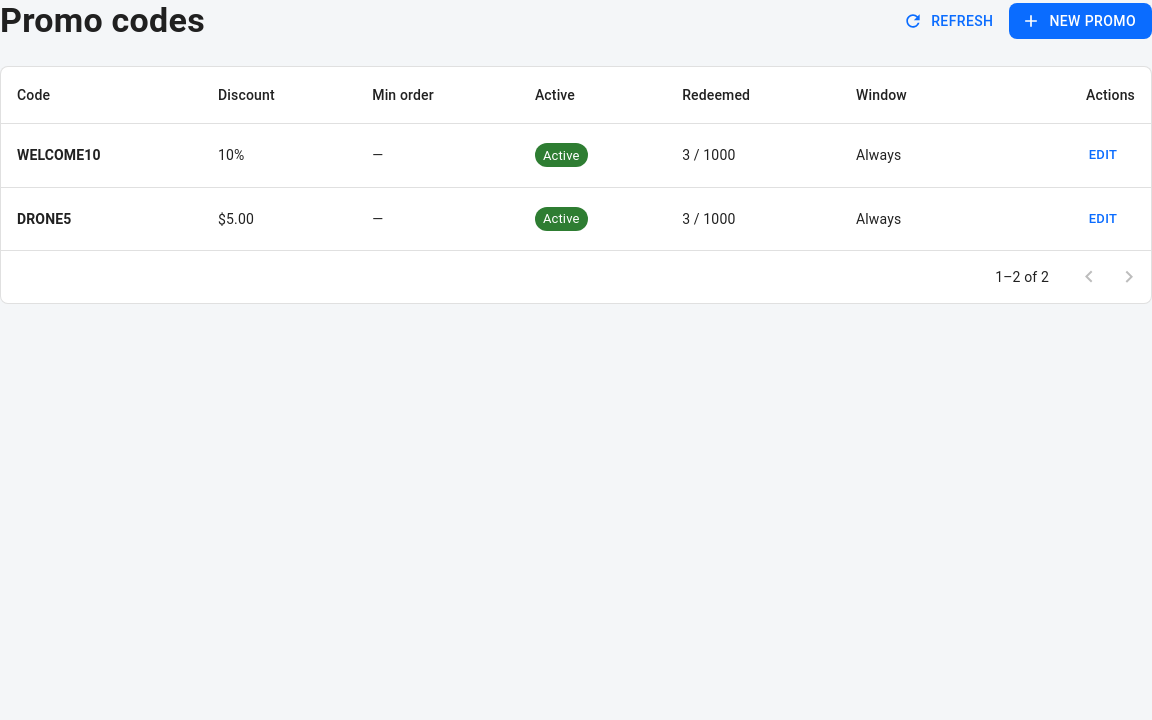
it: PromosListPage › opens the edit dialog titled "Edit WELCOME10" when a row's Edit is clicked
Expected: the text "WELCOME10" is shown, [17,147,101,163]
Click the button "Edit" in the row of "WELCOME10".
click(1103, 155)  # box [1071,140,1135,171]
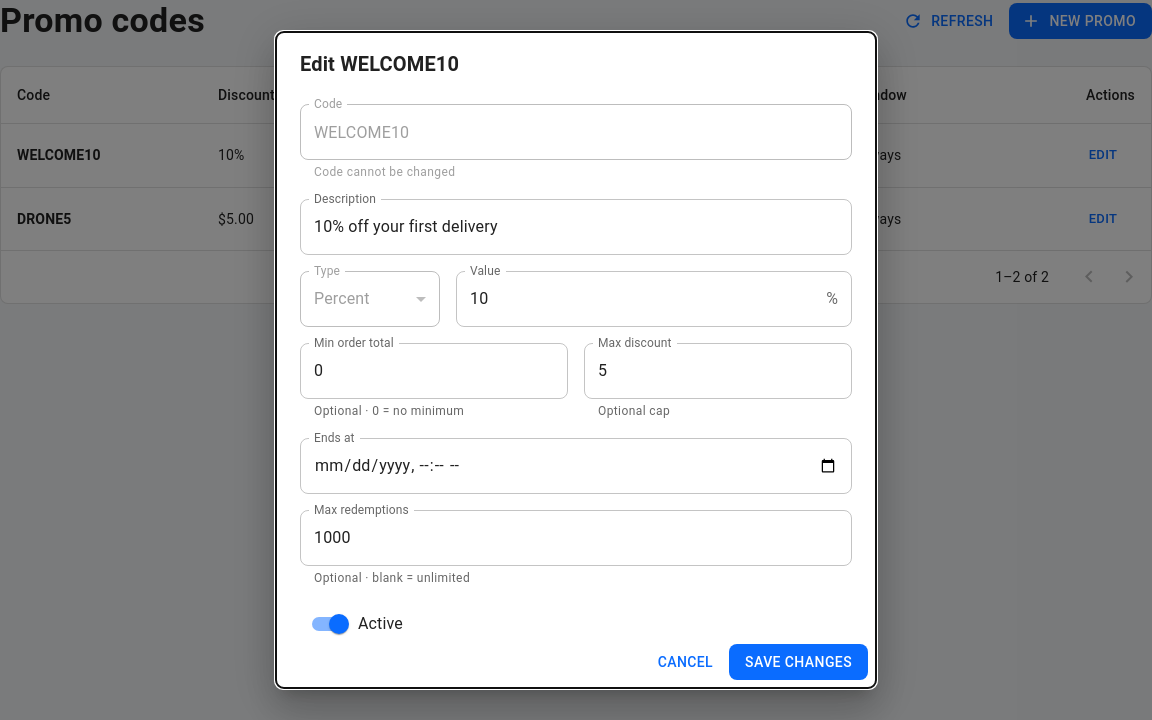
Result: the heading "Edit WELCOME10" is shown at [300,52,459,76]
